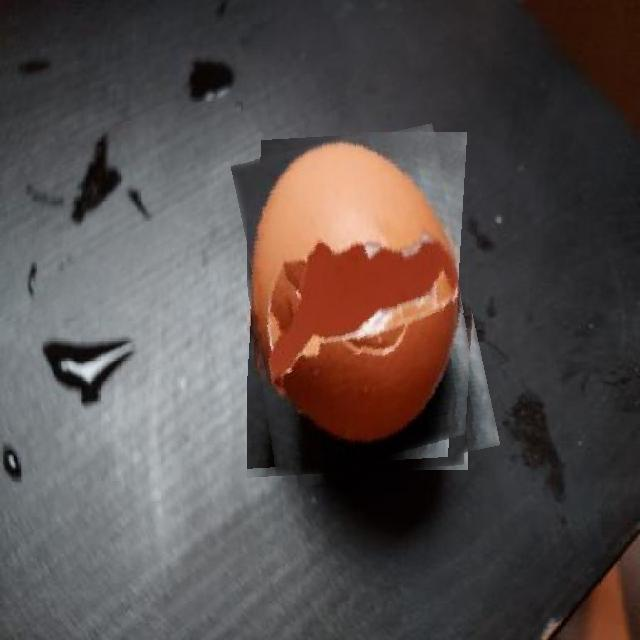biodegradable: (247, 132, 484, 479)
